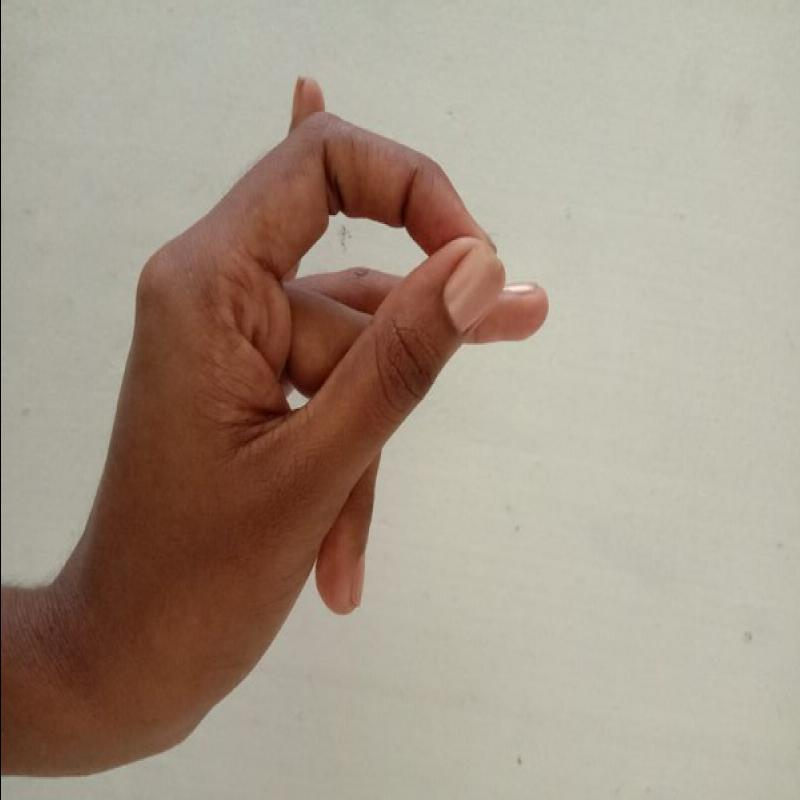Katakam: (82, 64, 575, 651)
